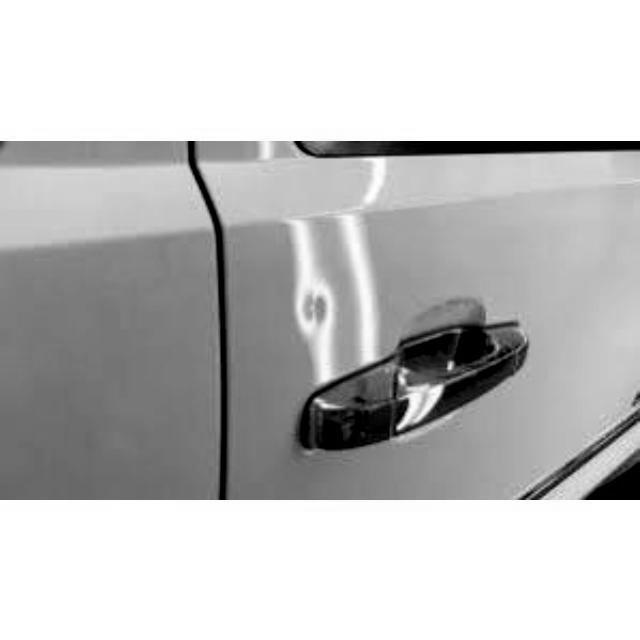doorouter-dent: (223, 140, 638, 476)
